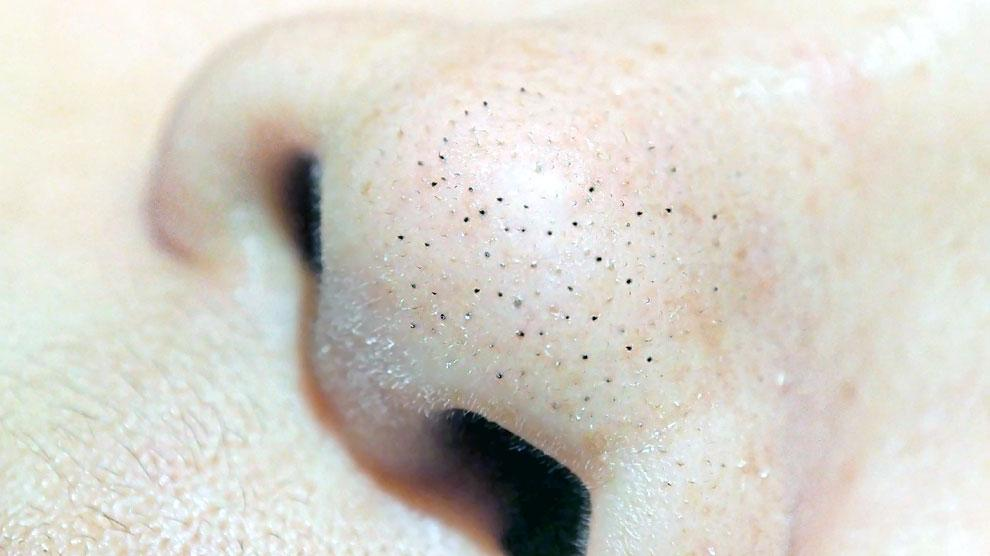Acne: (307, 49, 836, 556)
